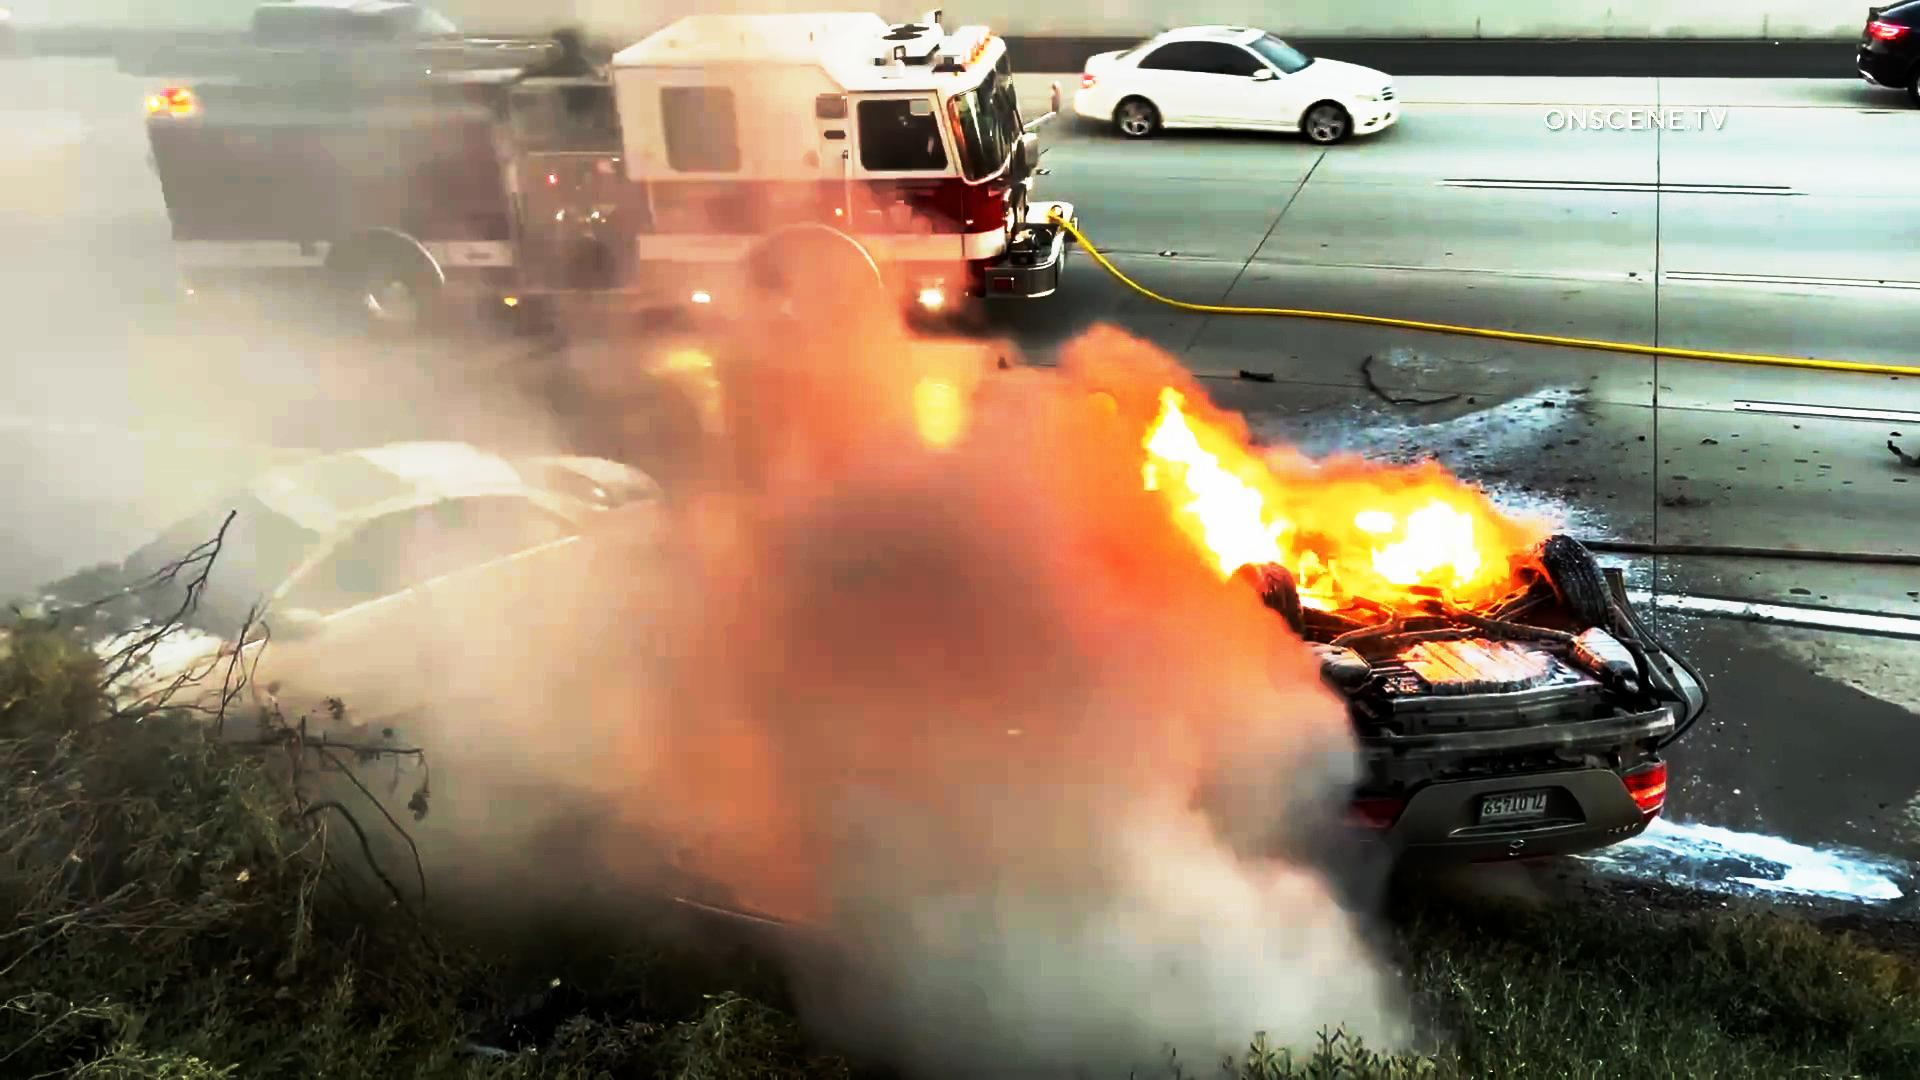fire: (1145, 392, 1286, 568), (1353, 472, 1511, 599)
smoke: (698, 583, 1353, 1080), (703, 278, 1137, 595)
